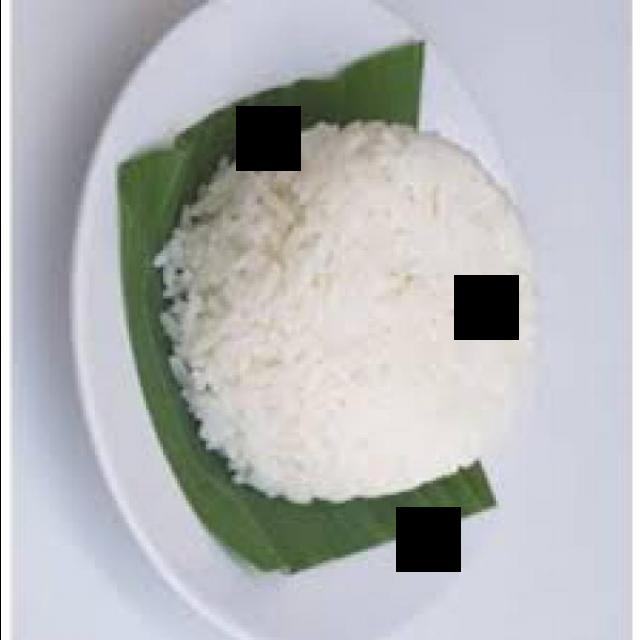rice: (155, 121, 539, 506)
